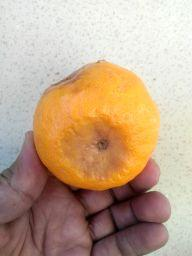Unripe: (32, 63, 159, 191)
